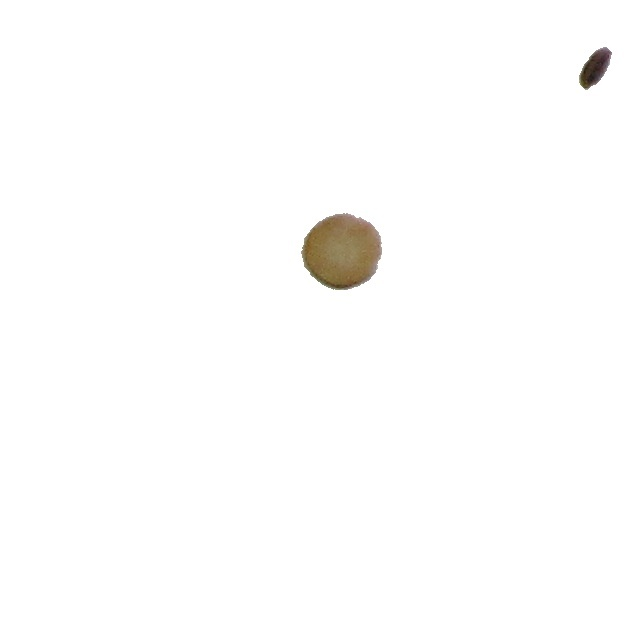buckwheat: (578, 46, 613, 91)
mais: (300, 212, 383, 291)
